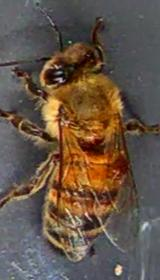varroa_mite: (104, 153, 130, 178)
